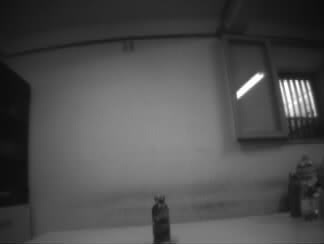Bottle: (152, 194, 171, 244)
